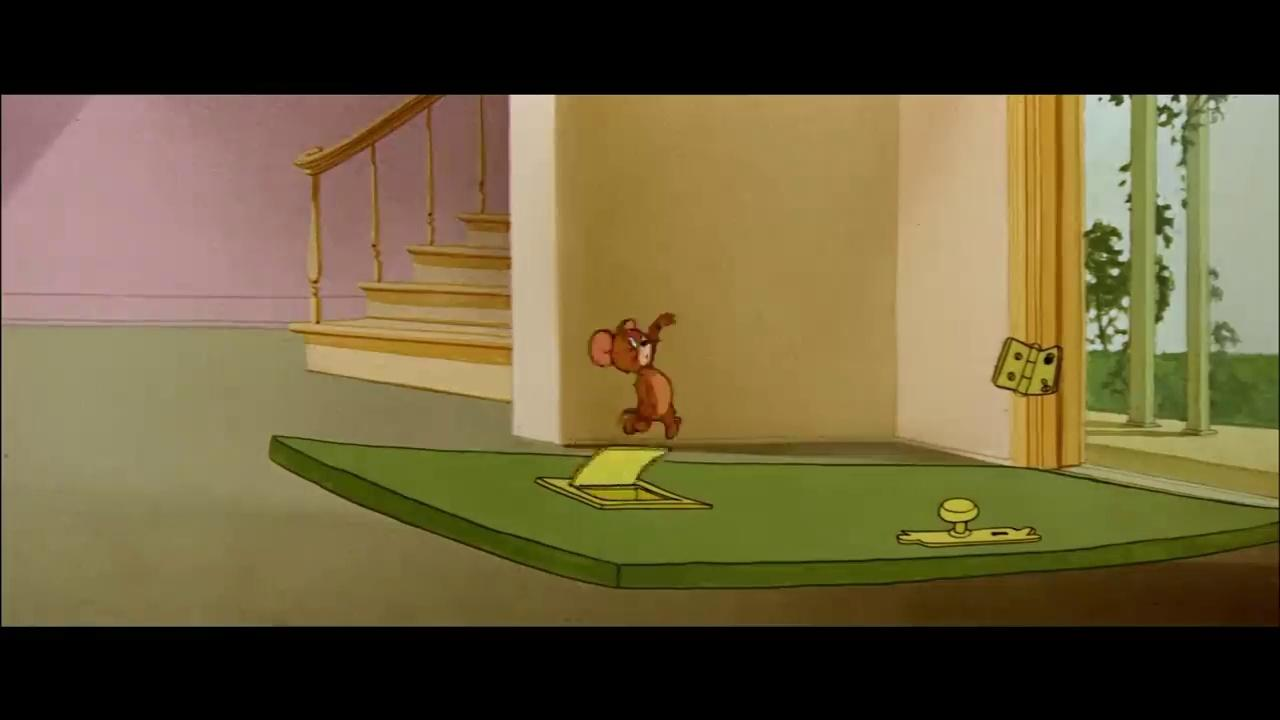Jerry: (585, 307, 685, 442)
